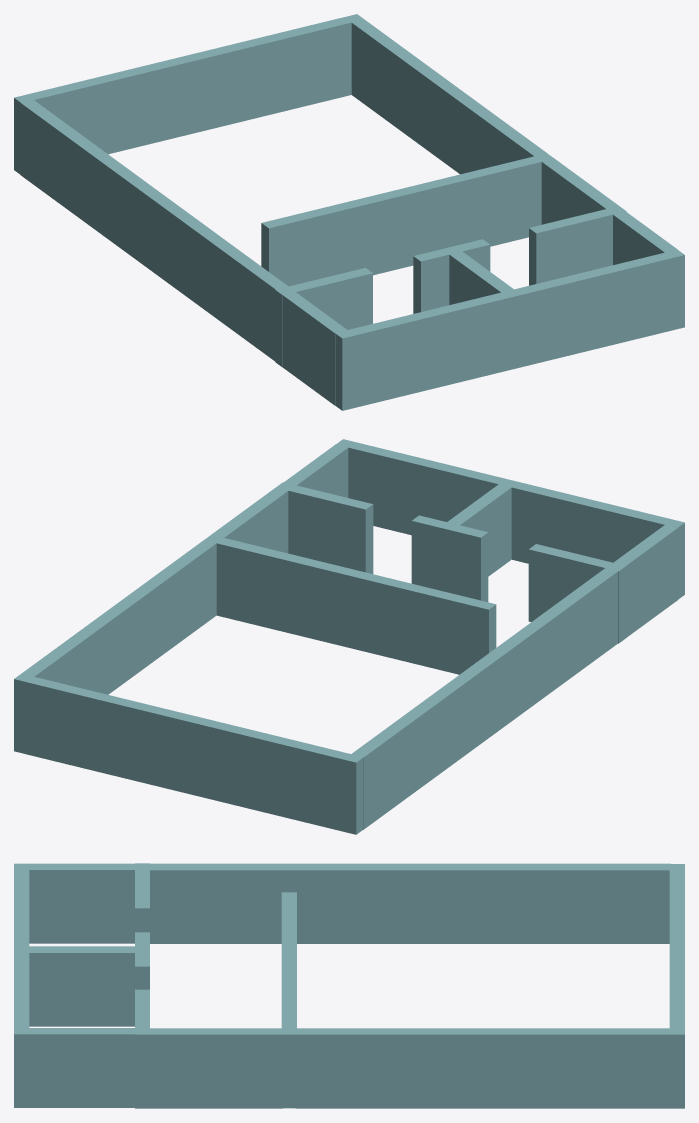
Rendered from LabBuilding.fbx.
The picture shows the model from 3 angles, top to bottom: view 1: azimuth 30°, elevation 25°; view 2: azimuth 150°, elevation 25°; view 3: azimuth 270°, elevation 25°; orthographic projection. The views are drawn at different scales.
Parts seen in each view (by area): view 1: Box003; view 2: Box003; view 3: Box003.
Part boxes in pixels (x1,y1,x2,y2): Box003: [14, 14, 684, 410]; Box003: [14, 439, 684, 834]; Box003: [14, 863, 684, 1108].
Bounding box in the file's own units: 142 × 28.5 × 235.
